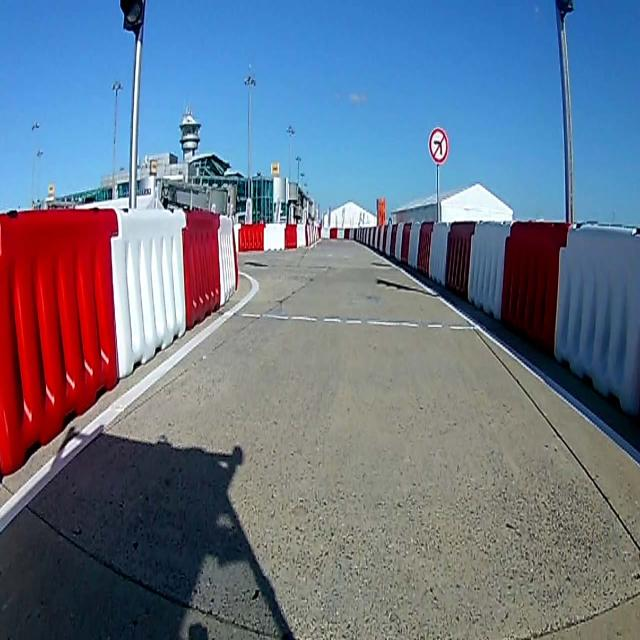soladonulmez: (428, 127, 448, 162)
